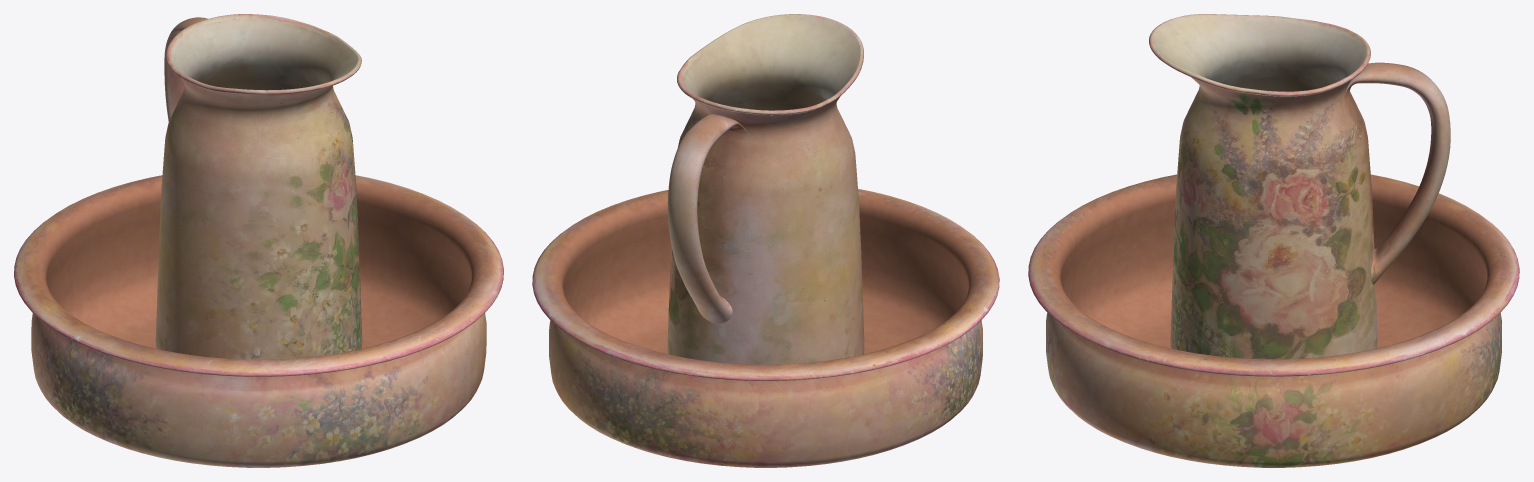
Rendered from Pottery.fbx.
3 views of the same model, side by side, from view 1: azimuth 30°, elevation 25°; view 2: azimuth 150°, elevation 25°; view 3: azimuth 270°, elevation 25° (orthographic). The views are drawn at different scales.
Visible parts, largest first — view 1: 1Bowl, 1Jug; view 2: 1Bowl, 1Jug; view 3: 1Bowl, 1Jug.
Boxes of the visible parts, x1,y1,x2,y2 form: 1Bowl: (14,175,503,467); 1Jug: (155,14,362,359); 1Bowl: (532,189,999,467); 1Jug: (667,14,864,364); 1Bowl: (1028,174,1519,467); 1Jug: (1149,14,1450,359).
Size of the model in its own units: 231 by 183 by 231.
Materials: 2 (2 with a texture image).
